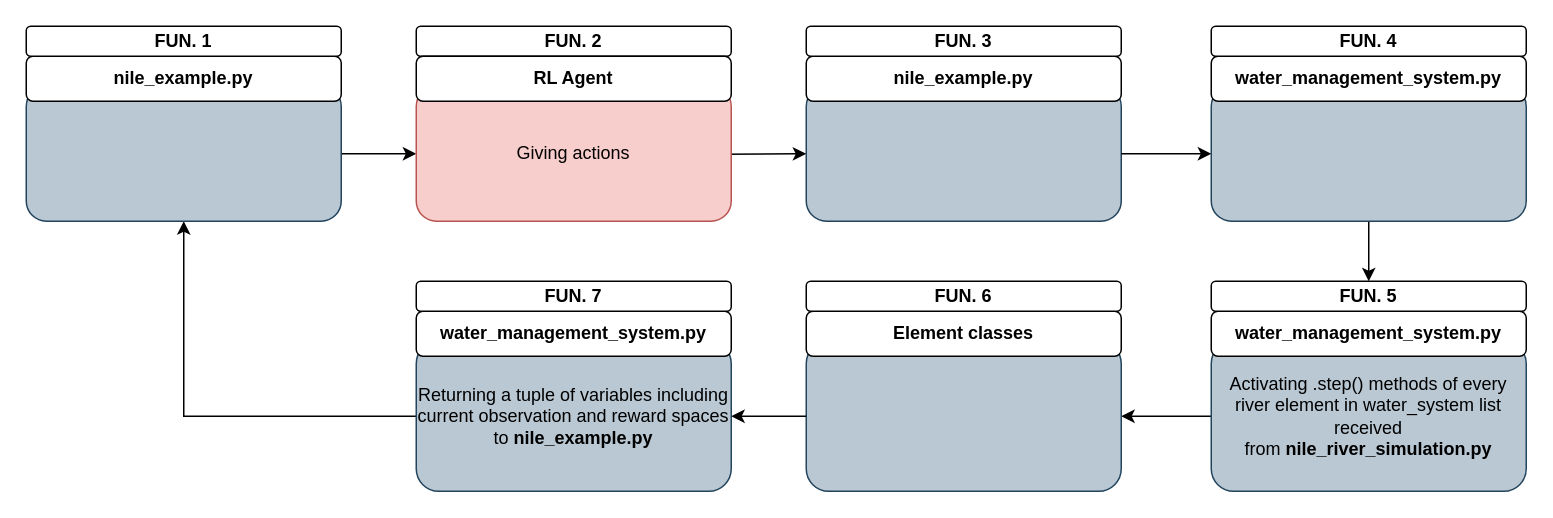
This 1553x518 diagram has some shape labels left out. The shapes that lost their labels are listed below. From the top down, each one's centre as x and y in pixels, then its label:
[183,153]: Providing observation states to the agent
[963,153]: Putting actions into the .step() method of the environment
[1368,153]: Running the .step() method of the environment
[963,415]: Running its own .step() method based on its class
